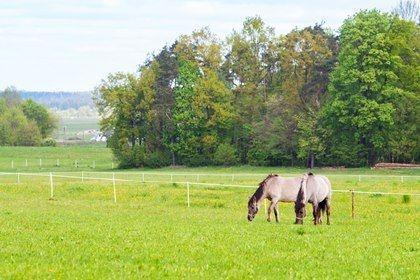horse: (247, 175, 300, 223), (294, 172, 330, 226)
